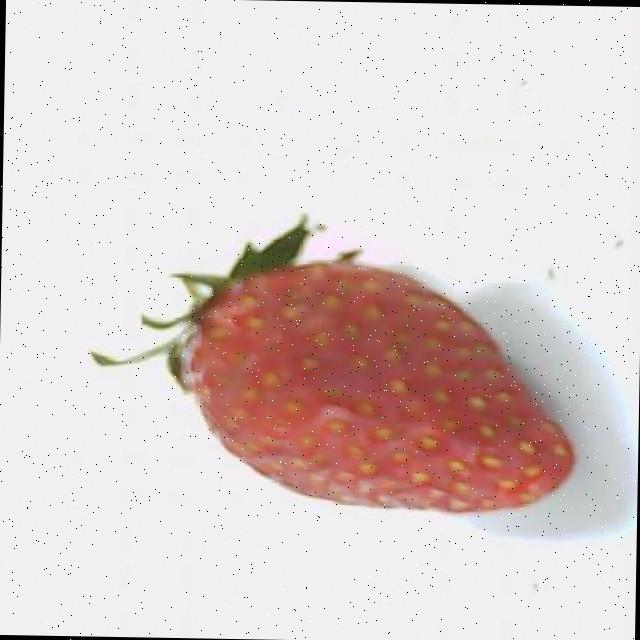strawberry: (91, 216, 572, 511)
